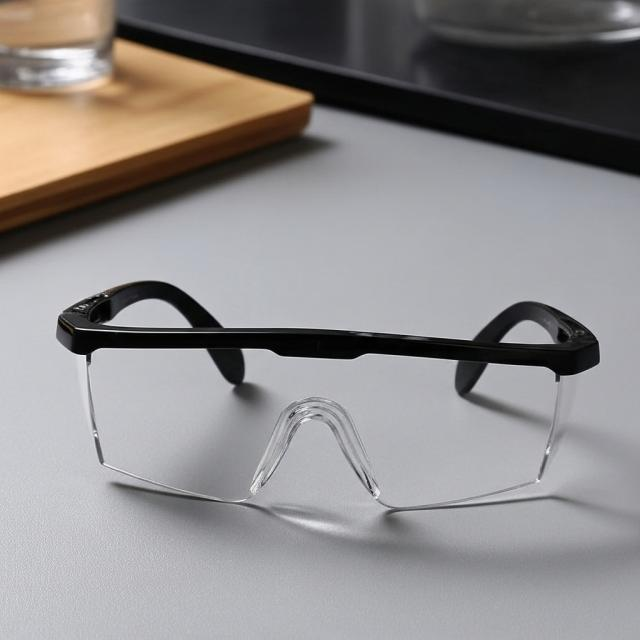oculos-epi: (56, 281, 599, 510)
